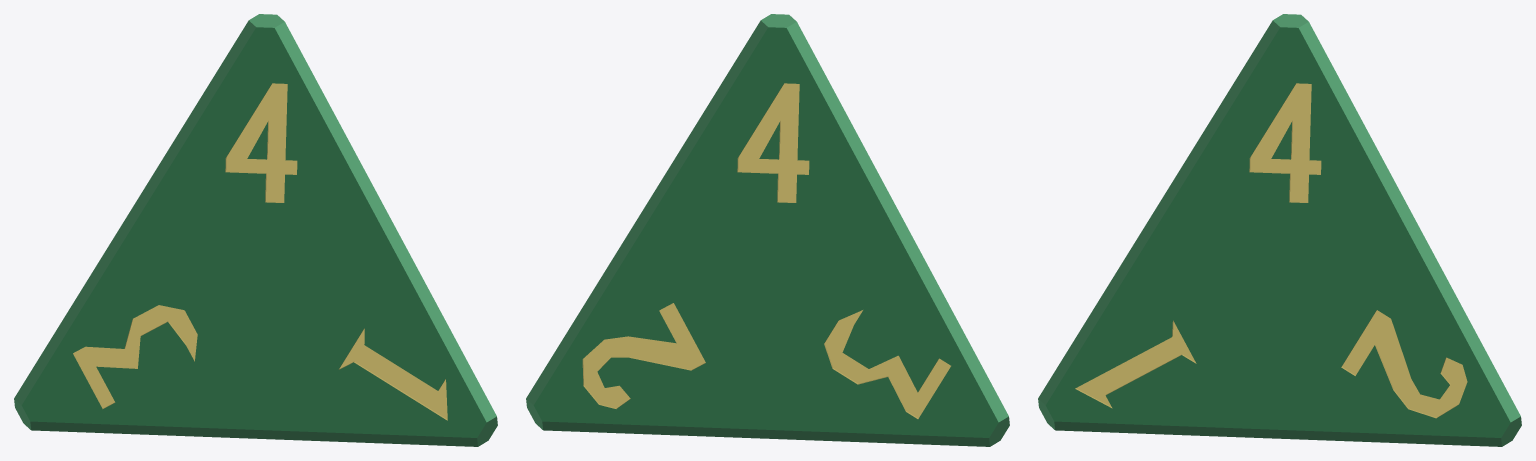
Rendered from d4-pyramid-die-54812c.glb.
The picture shows the model from 3 angles, left to right: view 1: azimuth 30°, elevation 25°; view 2: azimuth 150°, elevation 25°; view 3: azimuth 270°, elevation 25°; orthographic projection.
Visible parts, largest first — view 1: resin, numerals; view 2: resin, numerals; view 3: resin, numerals.
Part boxes in pixels (x1=…): resin: x1=14, y1=14, x2=497, y2=446; numerals: x1=73, y1=83, x2=447, y2=420; resin: x1=526, y1=14, x2=1009, y2=446; numerals: x1=582, y1=83, x2=950, y2=418; resin: x1=1038, y1=14, x2=1521, y2=446; numerals: x1=1075, y1=83, x2=1467, y2=418.
Bounding box in the file's own units: 0.0148 × 0.0132 × 0.0162.
